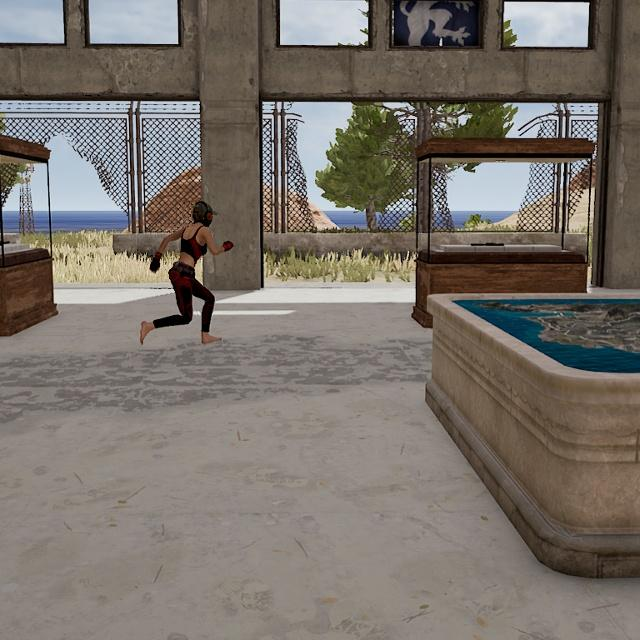head: (188, 200, 219, 229)
people: (138, 200, 235, 348)
